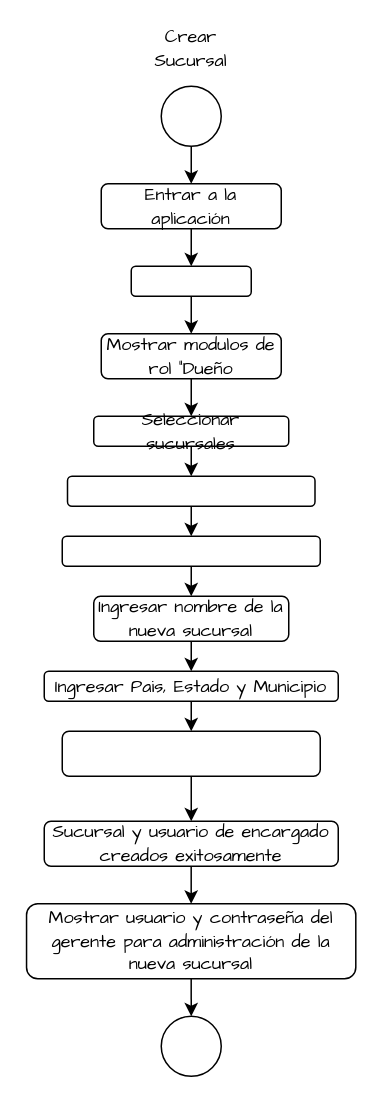
This 383x1103 diagram has some shape labels left out. The shapes that lost their labels are listed below. From the top down, each one's box as (x1, y1, x2, y2) in pixels, then its label:
(130, 265, 251, 296): Iniciar sesión
(66, 475, 315, 506): Mostrar vista de sucursales
(61, 535, 320, 566): Seleccionar "Nueva Sucursal"
(61, 730, 320, 776): Ingresar nombre del encargado de la sucursal
